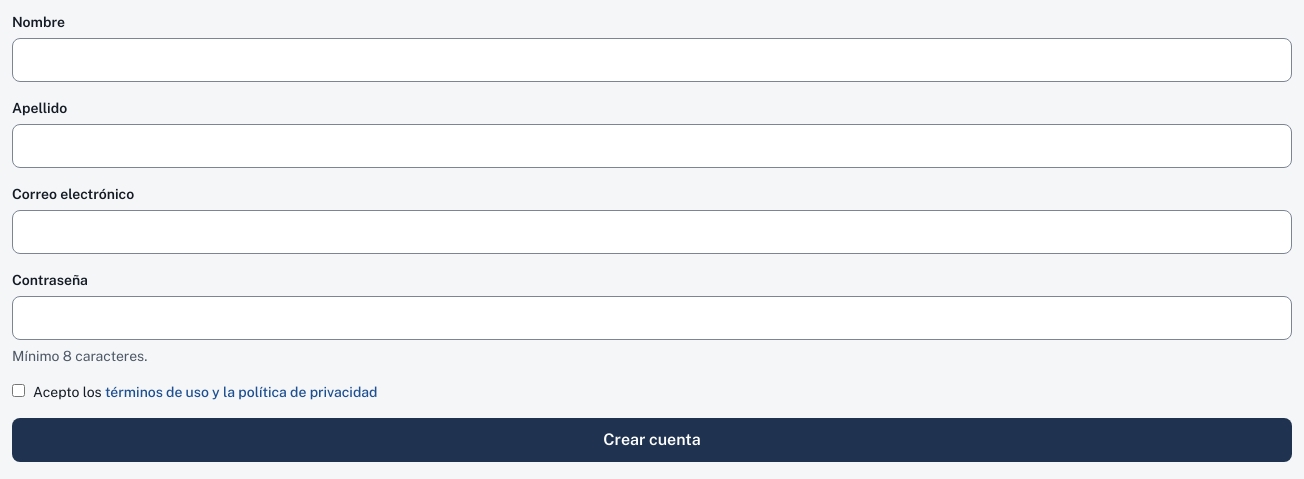
Scenario: FormularioRegistro: confirmación del correo (NC-09) › al crear la cuenta no entra: muestra «Revisa tu correo» con el correo y la vigencia
Type "Ana" into the field labelled "Nombre" at (652, 60), box [12,38,1292,82]
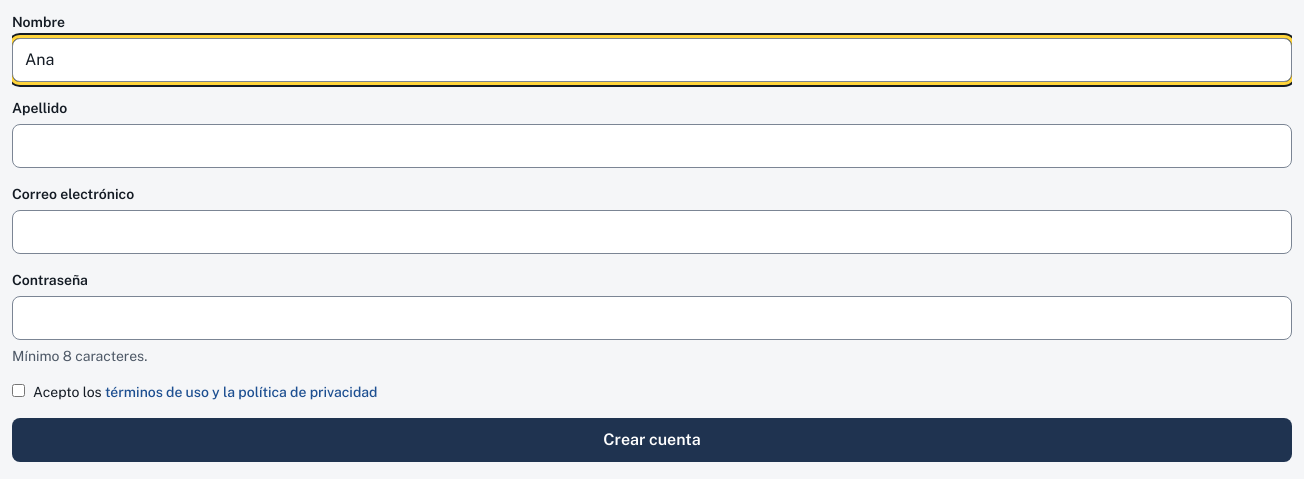
Type "Quispe" into the field labelled "Apellido" at (652, 146), box [12,124,1292,168]
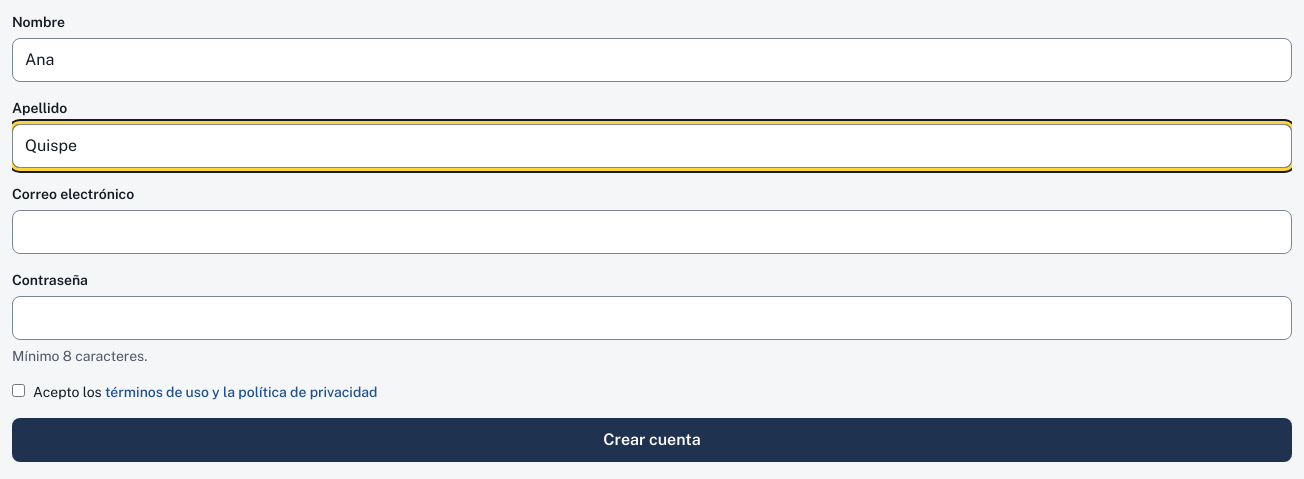
Type "ana@correo.pe" into the field labelled "Correo electrónico" at (652, 232), box [12,210,1292,254]
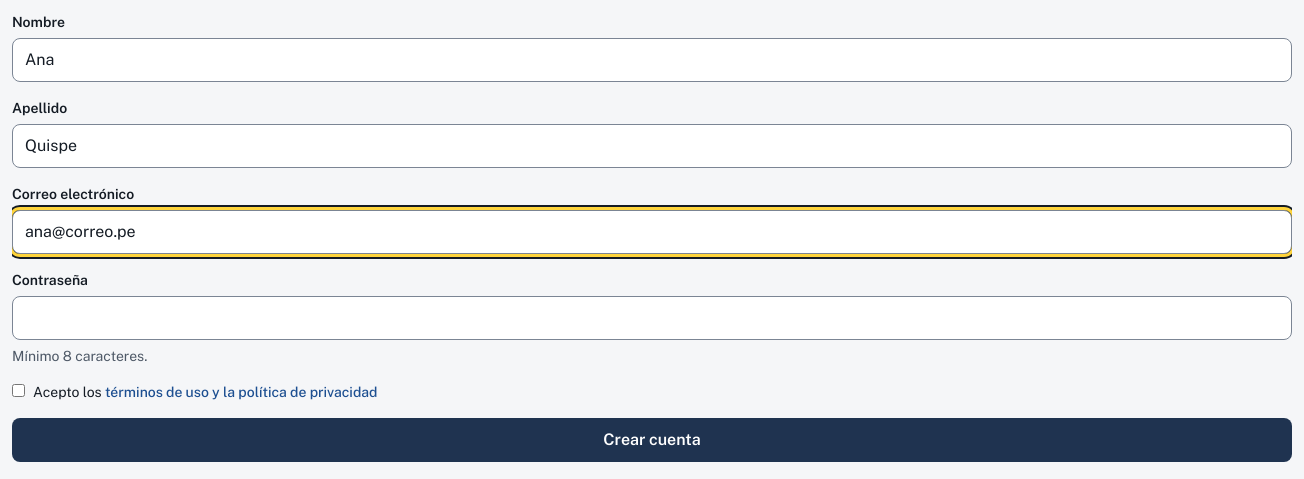
Type "claveSegura9" into the password field labelled "Contraseña" at (652, 318), box [12,296,1292,340]
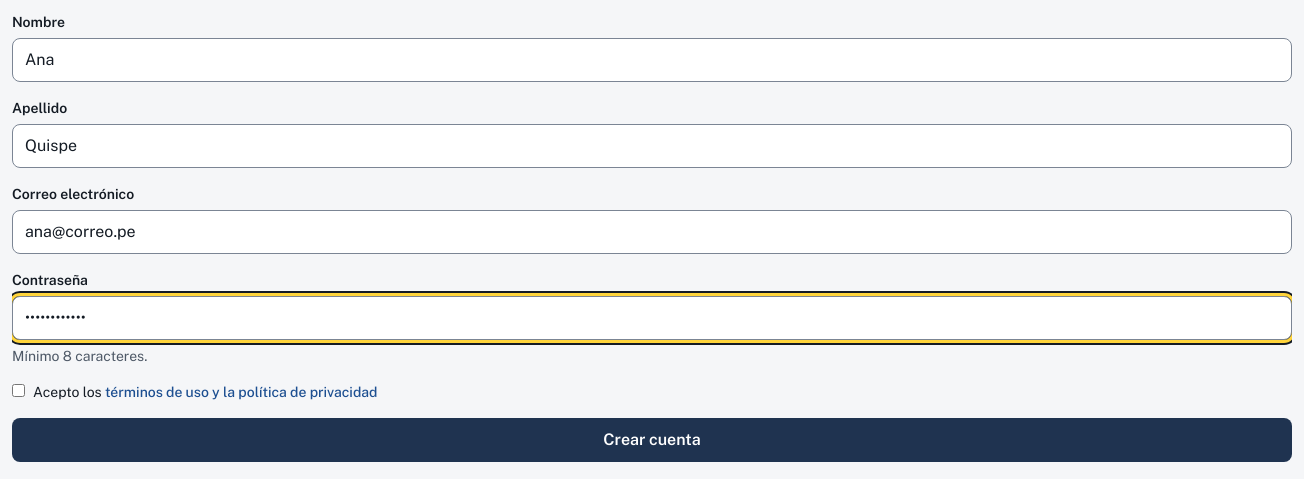
Click the checkbox at (18, 390), box [12,384,25,397]
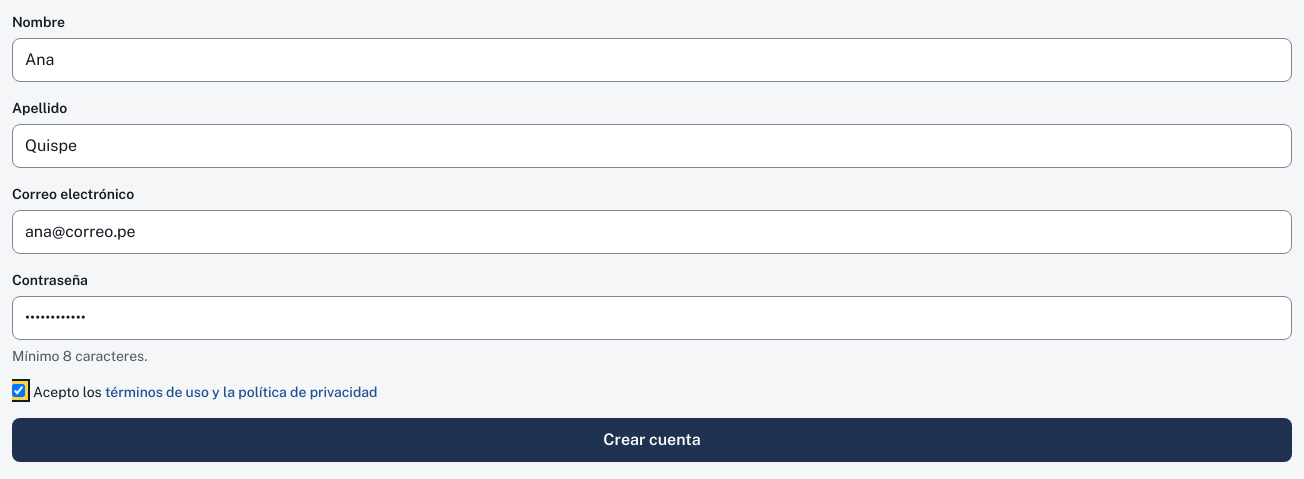
Click the button "Crear cuenta" at (652, 440), box [12,418,1292,462]
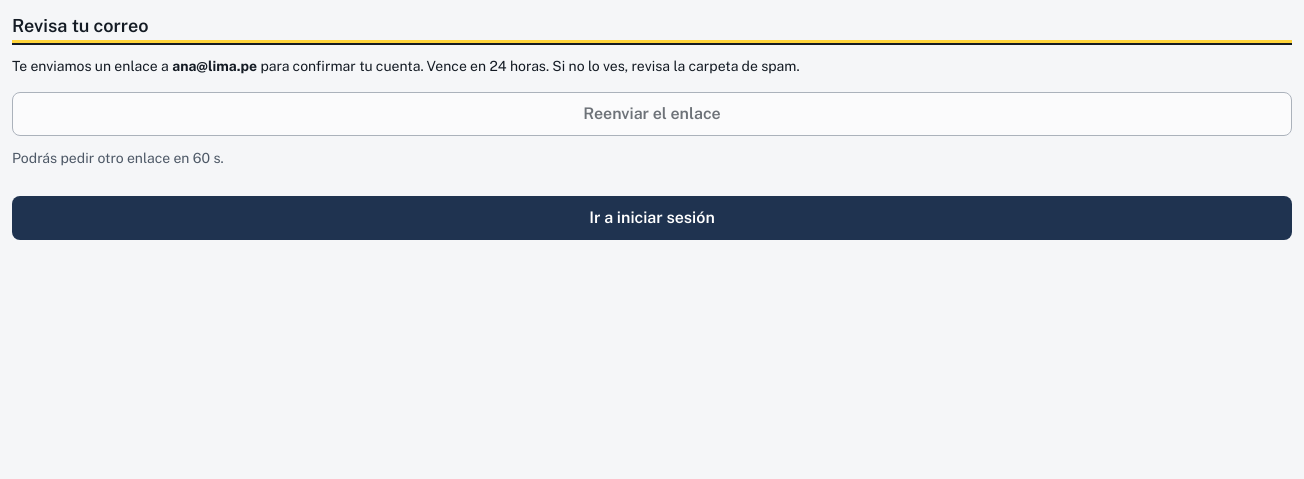
Check: the text "ana@lima.pe" is shown, box [172,58,257,74]
Check: the text "Vence en 24 horas" is shown, box [12,58,800,74]
Check: the button "Crear cuenta" is gone
